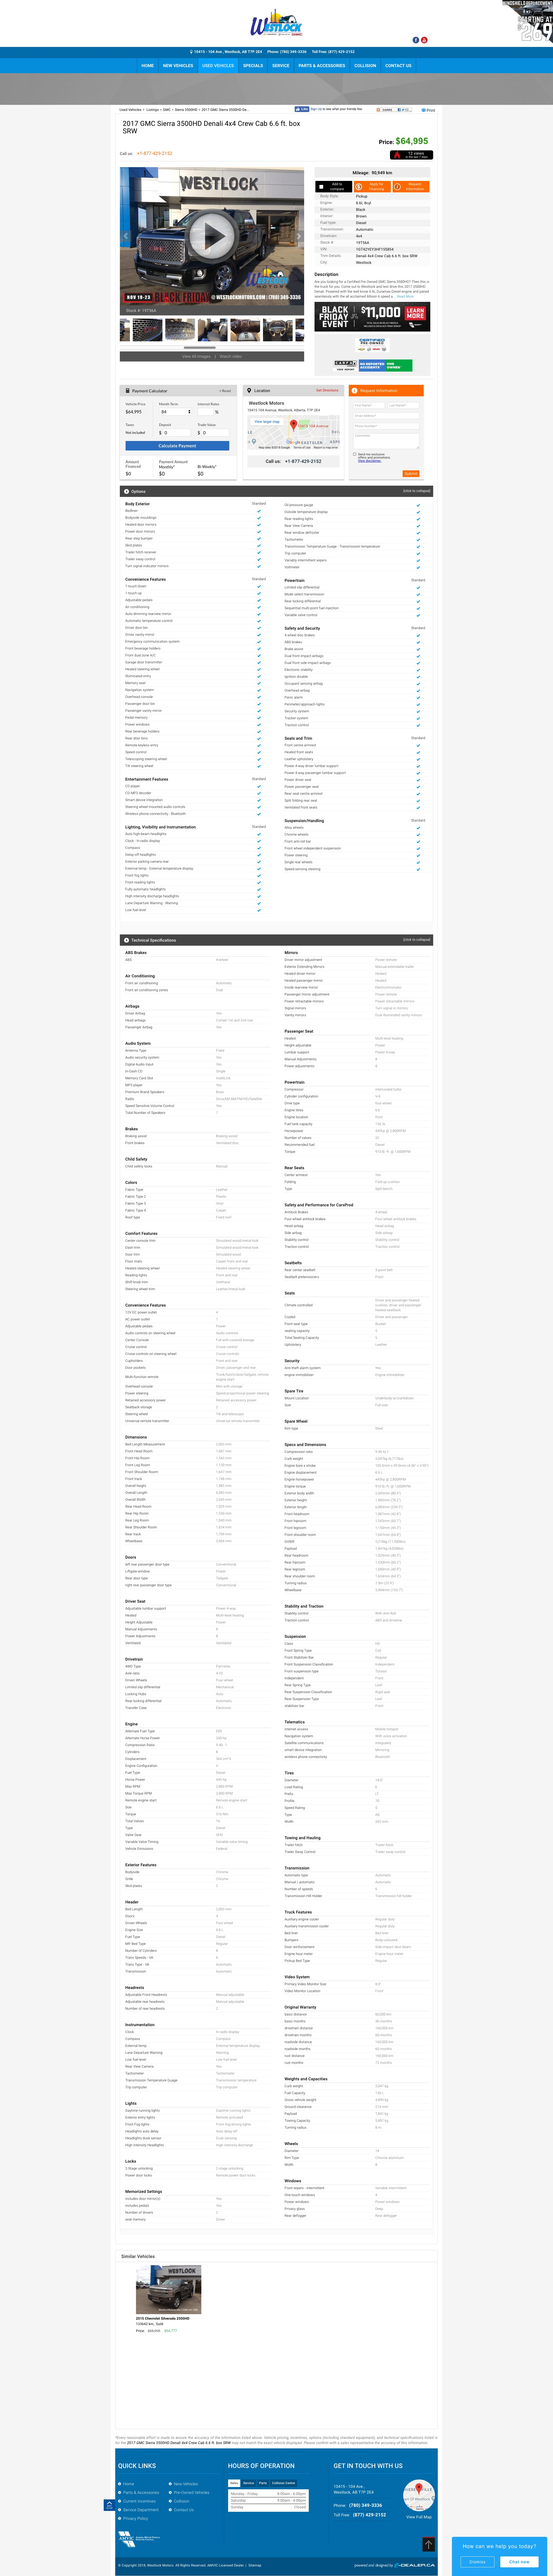car: (295, 233, 302, 240)
